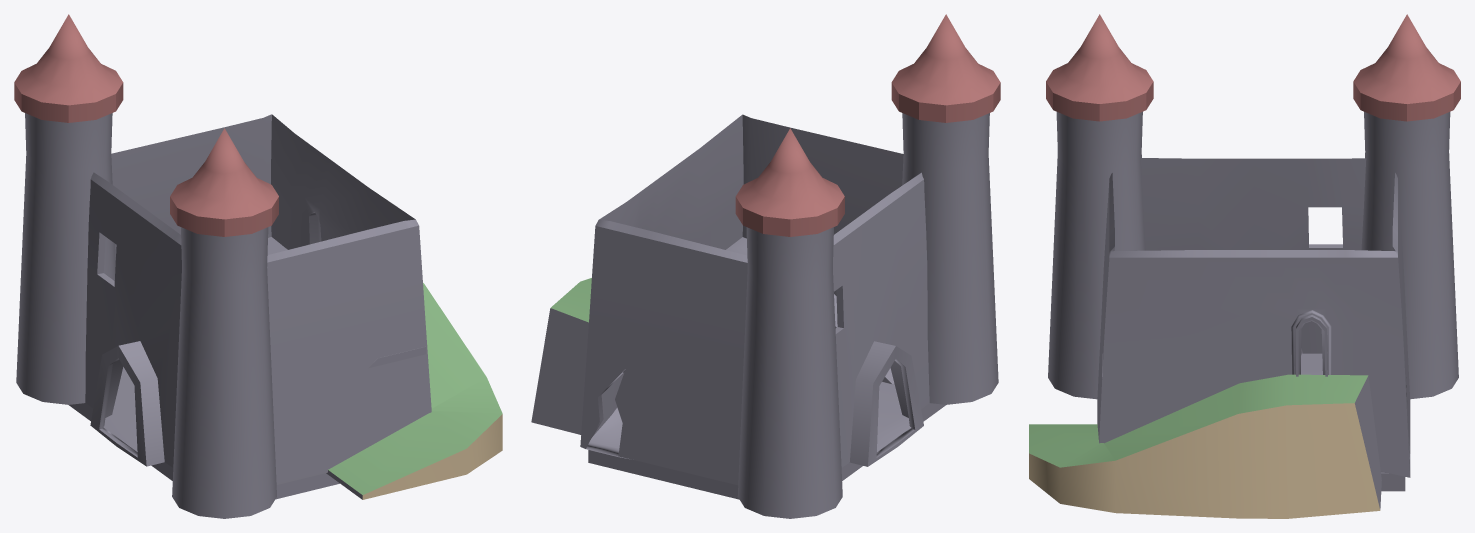
Rendered from 1.Castle.001.fbx.
3 renders of one model, left to right at view 1: azimuth 30°, elevation 25°; view 2: azimuth 150°, elevation 25°; view 3: azimuth 270°, elevation 25°, orthographic.
Visible parts, largest first — view 1: 1.Castle.001; view 2: 1.Castle.001; view 3: 1.Castle.001.
Part boxes in pixels (x1,y1,x2,y2): 1.Castle.001: [14, 14, 502, 518]; 1.Castle.001: [531, 14, 1000, 518]; 1.Castle.001: [1029, 14, 1460, 518].
Bounding box in the file's own units: 1025 × 1120 × 1154.
